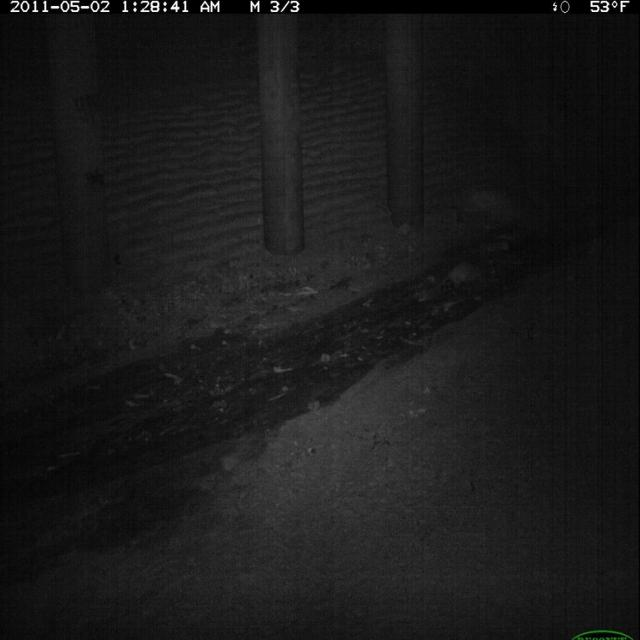opossum: (426, 257, 497, 300)
